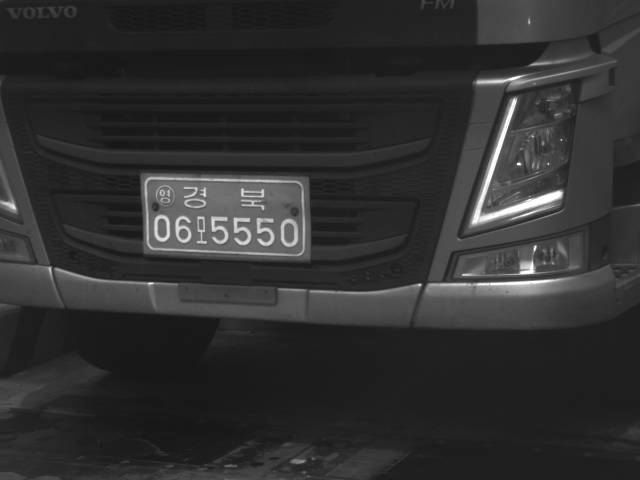car: (1, 1, 640, 378)
plate: (141, 174, 309, 258)
